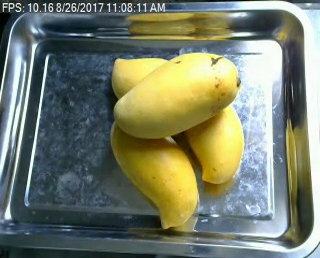Mango: (111, 50, 237, 134), (109, 119, 199, 231), (179, 88, 241, 185), (112, 54, 173, 99)
